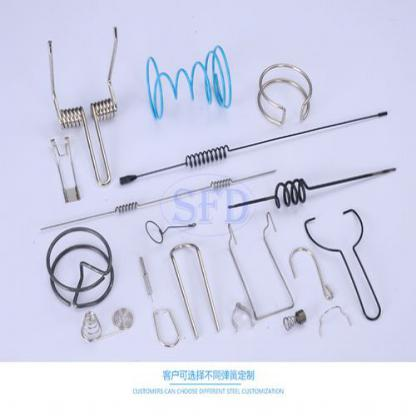FOD: (118, 107, 390, 186), (38, 168, 278, 235), (45, 25, 122, 187), (224, 162, 398, 212), (142, 42, 235, 122), (44, 224, 117, 316), (78, 310, 103, 344), (280, 308, 309, 333), (111, 304, 135, 331)
